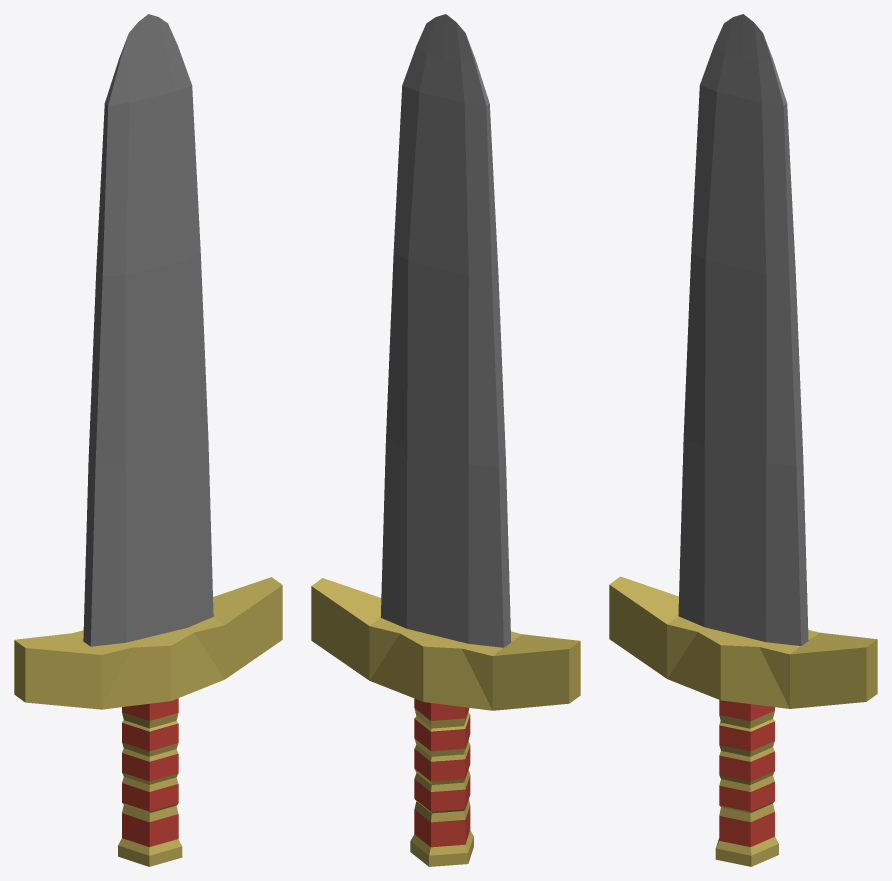
Rendered from sword_2.fbx.
3 views of the same model, side by side, from view 1: azimuth 30°, elevation 25°; view 2: azimuth 150°, elevation 25°; view 3: azimuth 330°, elevation 25° (orthographic).
Visible parts, largest first — view 1: Cube.001; view 2: Cube.001; view 3: Cube.001.
Boxes of the visible parts, bbox=[...] form: Cube.001: bbox=[14, 14, 282, 866]; Cube.001: bbox=[311, 14, 580, 866]; Cube.001: bbox=[609, 14, 877, 866].
Bounding box in the file's own units: 1.28 × 3.99 × 0.3905.
